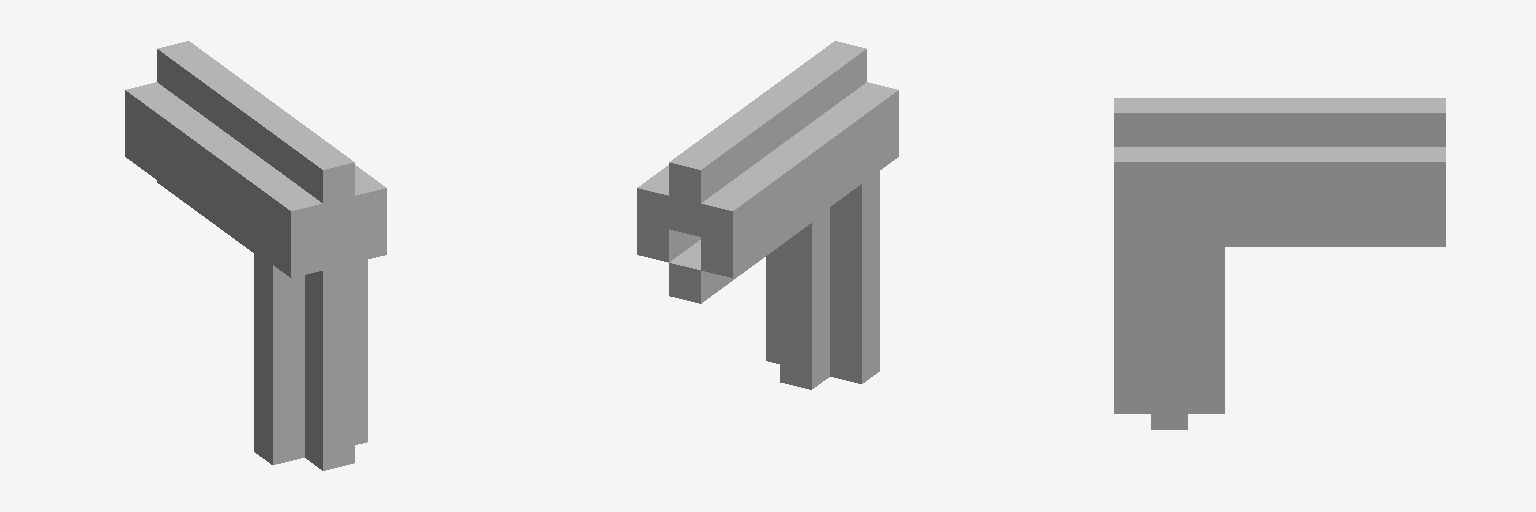
The model's file is gun.obj.
3 renders of one model, left to right at view 1: azimuth 30°, elevation 25°; view 2: azimuth 150°, elevation 25°; view 3: azimuth 270°, elevation 25°, orthographic.
Parts seen in each view (by area): view 1: object 1; view 2: object 1; view 3: object 1.
Boxes of the visible parts, <box> form: object 1: <box>125,41,386,470</box>; object 1: <box>637,41,898,389</box>; object 1: <box>1114,98,1445,429</box>.
Bounding box in the file's own units: 0.3 × 0.9 × 0.9.